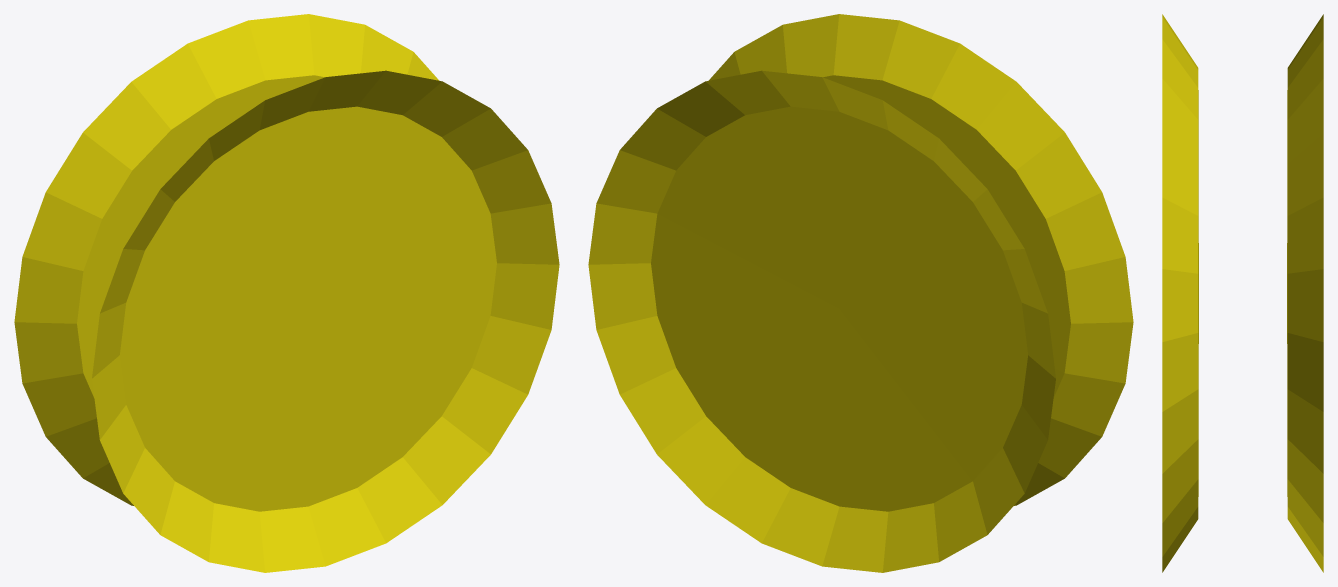
File: hubcap.dae
3 views of the same model, side by side, from view 1: azimuth 30°, elevation 25°; view 2: azimuth 150°, elevation 25°; view 3: azimuth 270°, elevation 25° (orthographic). The views are drawn at different scales.
Parts seen in each view (by area): view 1: node0; view 2: node0; view 3: node0.
Boxes of the visible parts, x1=… form: node0: x1=14, y1=14, x2=559, y2=572; node0: x1=588, y1=14, x2=1133, y2=572; node0: x1=1162, y1=14, x2=1323, y2=572.
Size of the model in its own units: 0.1045 by 0.03 by 0.1045.
